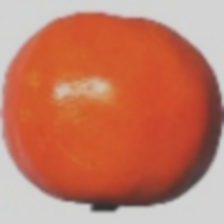tangerine: (47, 11, 183, 191)
